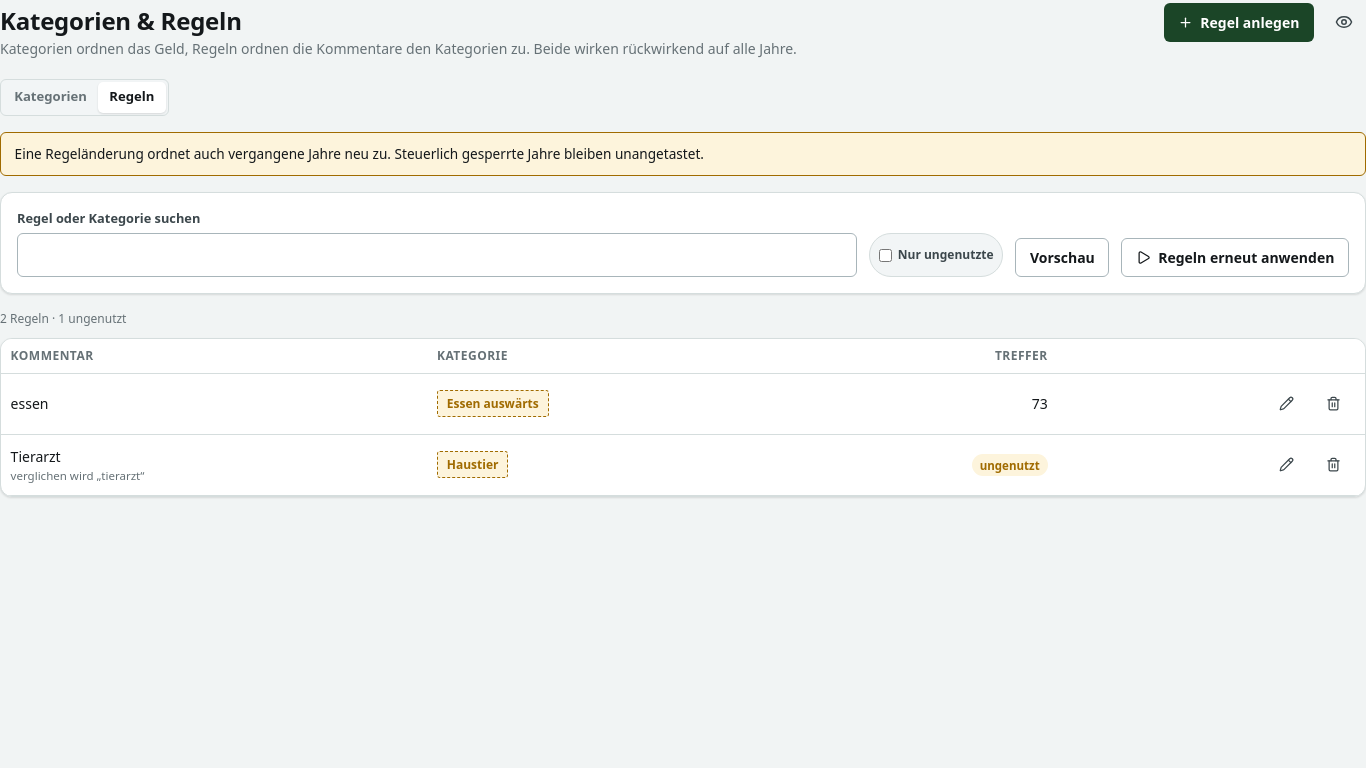
Test: rules › says how much history a saved rule moved
Expected: the text "essen" is shown, [11,394,48,413]
Step 1. Click the button named "Bearbeiten — essen" → (1286, 404), box [1264,382,1308,426]
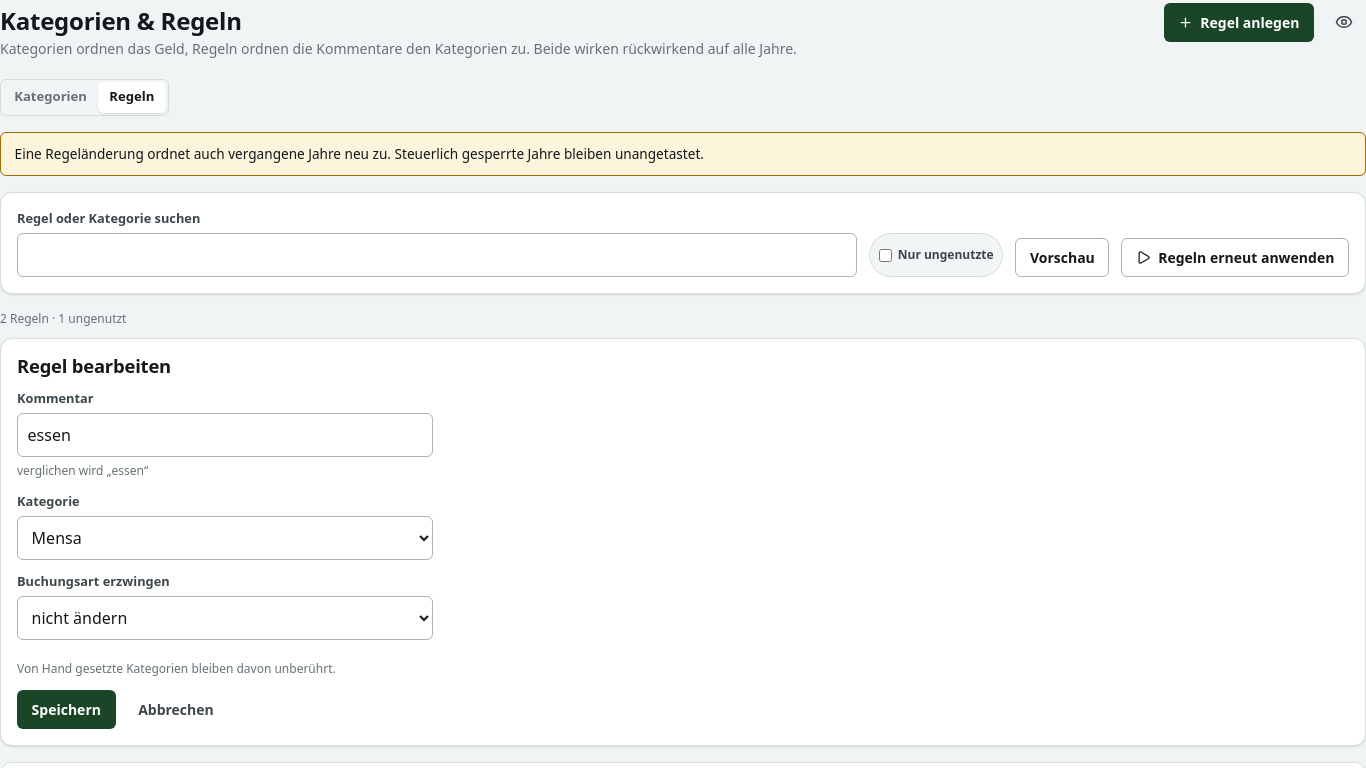
Step 2. Click the button "Speichern" → (66, 709), box [17,690,116,729]
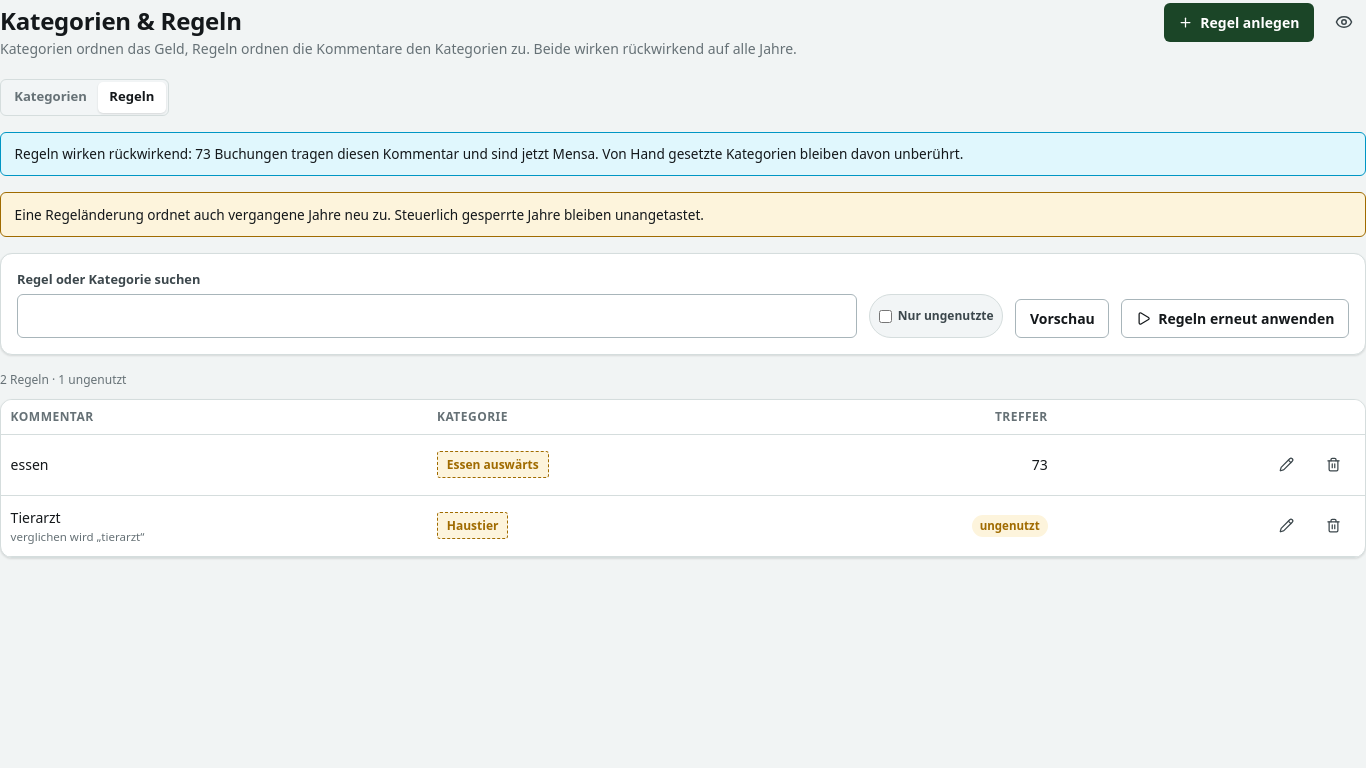
Expected: the text "Von Hand gesetzte Kategorien bleiben davon unberührt" is shown, [15,144,963,163]
